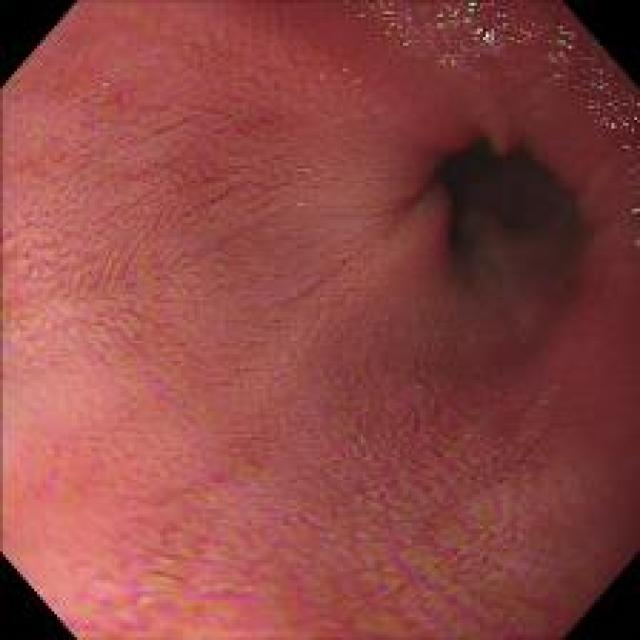contrast: (448, 152, 585, 358)
saturation: (352, 1, 604, 82), (575, 54, 639, 140), (620, 140, 639, 255)
